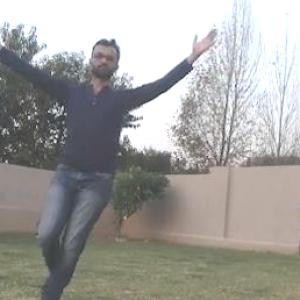takeoff: (0, 36, 225, 299)
